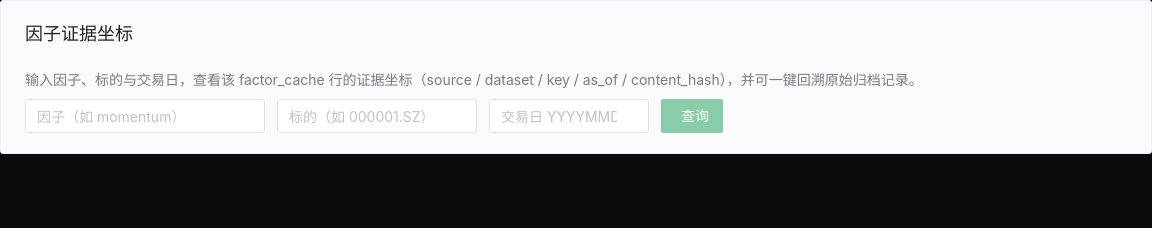
Test case: FactorCitation › surfaces non-404 failures as an error
Type "momentum" into the field with placeholder "因子（如 momentum）" at [135, 116], box top-left (37, 99), bottom-right (233, 133)
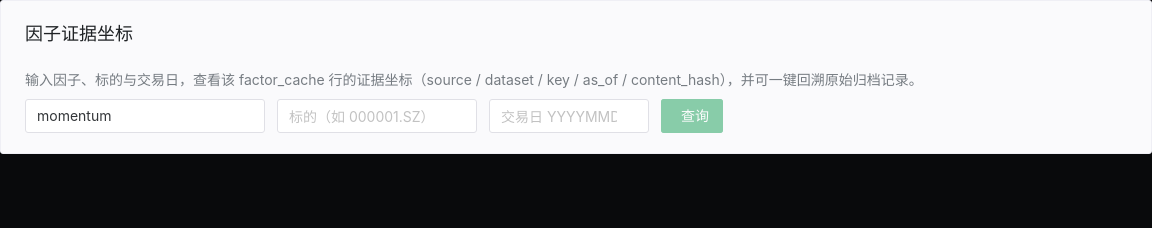
Type "000001.SZ" into the field with placeholder "标的（如 000001.SZ）" at [367, 116], box top-left (289, 99), bottom-right (445, 133)
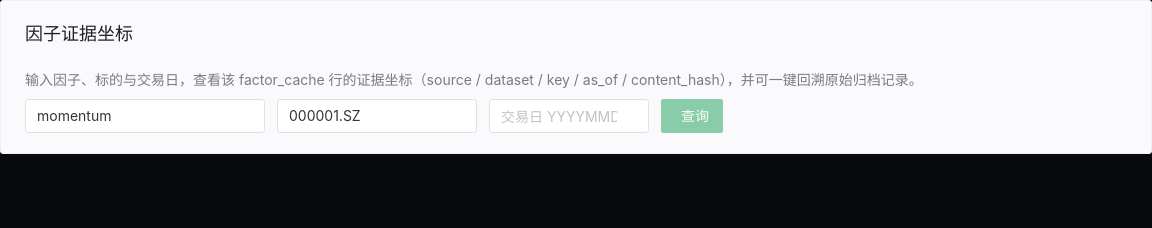
Type "20260105" into the field with placeholder "交易日 YYYYMMDD" at [559, 116], box top-left (501, 99), bottom-right (617, 133)
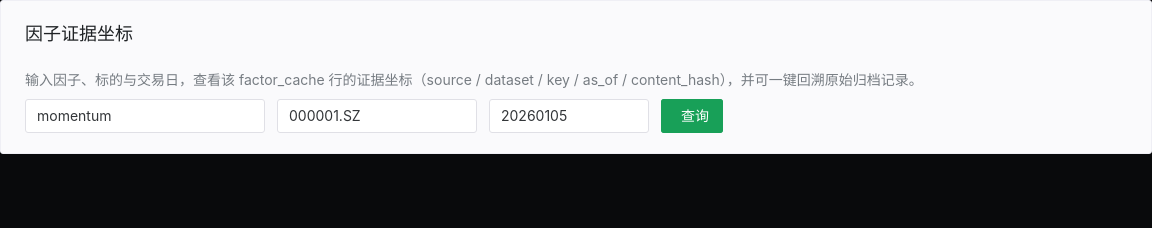
Click the button "查询" at [692, 116], box top-left (661, 99), bottom-right (723, 133)
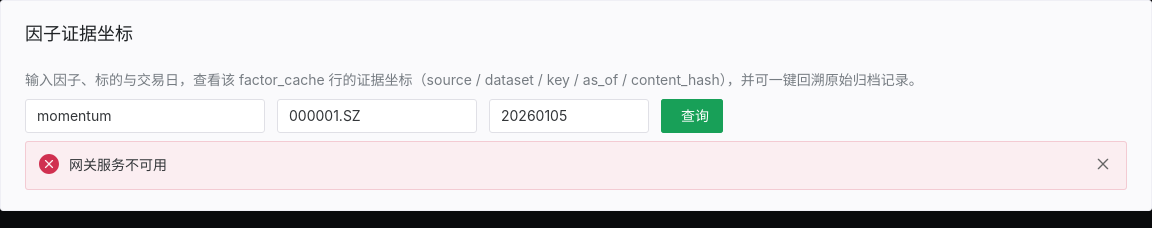
Check: the text "网关服务不可用" is shown, box top-left (69, 156), bottom-right (167, 173)
